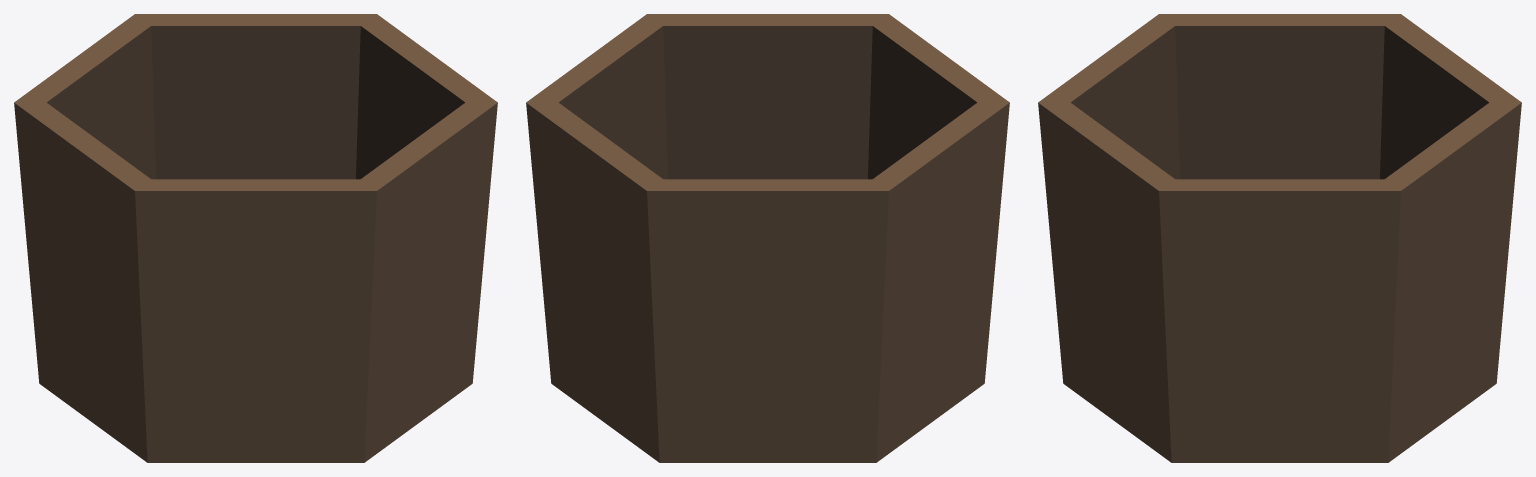
The model's file is TB_D_Prop_Bucket_A.FBX.
3 views of the same model, side by side, from view 1: azimuth 30°, elevation 25°; view 2: azimuth 150°, elevation 25°; view 3: azimuth 270°, elevation 25° (orthographic).
Visible parts, largest first — view 1: TB_D_Prop_Bucket_A; view 2: TB_D_Prop_Bucket_A; view 3: TB_D_Prop_Bucket_A.
Part boxes in pixels (x1,y1,x2,y2): TB_D_Prop_Bucket_A: (14, 14, 497, 462); TB_D_Prop_Bucket_A: (526, 14, 1009, 462); TB_D_Prop_Bucket_A: (1038, 14, 1521, 462).
Size of the model in its own units: 0.4708 by 0.3485 by 0.5436.
